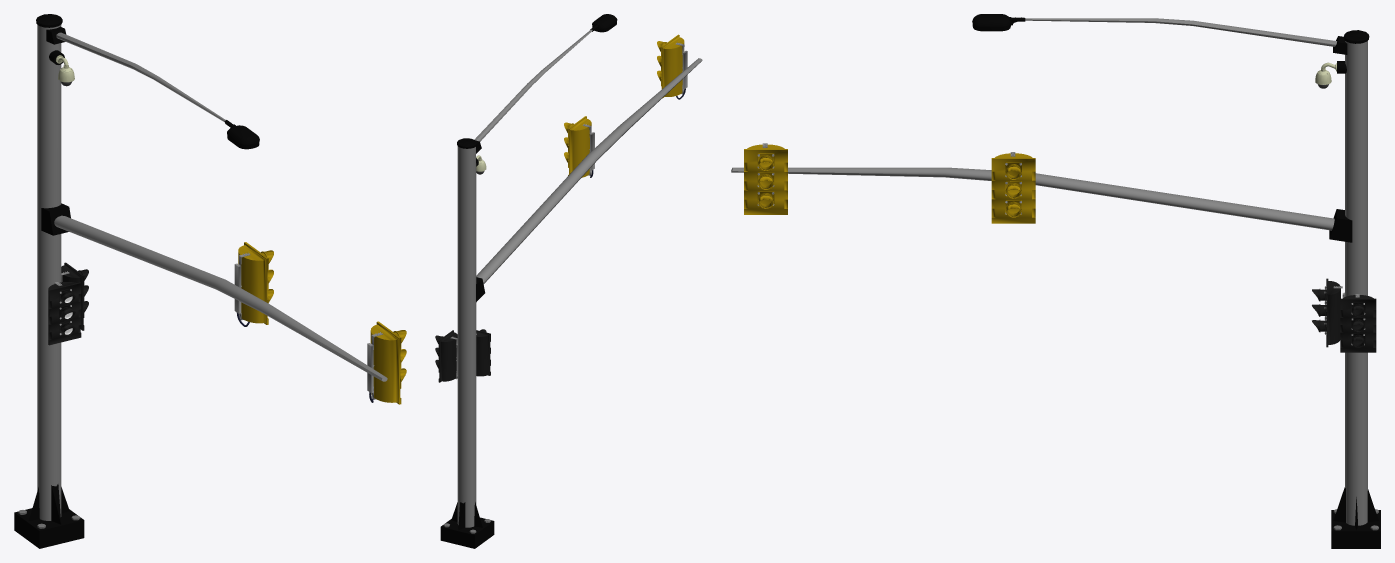
Rendered from trafficlight.glb.
3 renders of one model, left to right at view 1: azimuth 30°, elevation 25°; view 2: azimuth 150°, elevation 25°; view 3: azimuth 270°, elevation 25°, orthographic. The views are drawn at different scales.
Parts seen in each view (by area): view 1: Pole, Supports, Traffic Light 2, Traffic Light 1, Traffic Light 4, Traffic Light 3, Camera; view 2: Pole, Supports, Traffic Light 2, Traffic Light 1, Traffic Light 3, Traffic Light 4; view 3: Pole, Traffic Light 1, Traffic Light 2, Supports, Traffic Light 3, Traffic Light 4.
Part boxes in pixels (x1,y1,x2,y2): Pole: (18,14,387,528); Supports: (14,26,84,548); Traffic Light 2: (367,321,406,404); Traffic Light 1: (234,242,273,324); Traffic Light 4: (48,282,81,345); Traffic Light 3: (61,262,88,330); Camera: (49,50,74,86); Pole: (443,14,702,533); Supports: (440,140,494,548); Traffic Light 2: (657,34,687,98); Traffic Light 1: (564,116,594,177); Traffic Light 3: (435,330,457,382); Traffic Light 4: (476,329,490,376); Pole: (731,14,1378,530); Traffic Light 1: (991,152,1035,223); Traffic Light 2: (744,143,787,214); Supports: (1329,36,1380,548); Traffic Light 3: (1340,294,1376,352); Traffic Light 4: (1312,278,1345,347).
Bounding box in the file's own units: 1.2 × 8.02 × 9.
